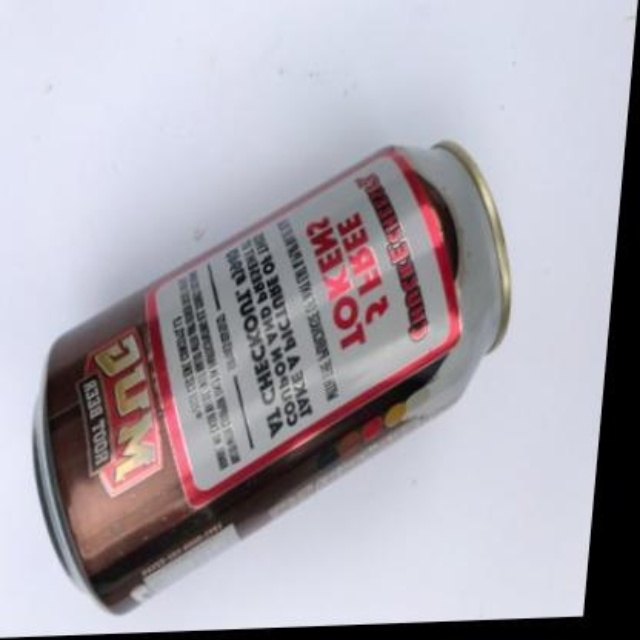trash: (34, 142, 509, 608)
